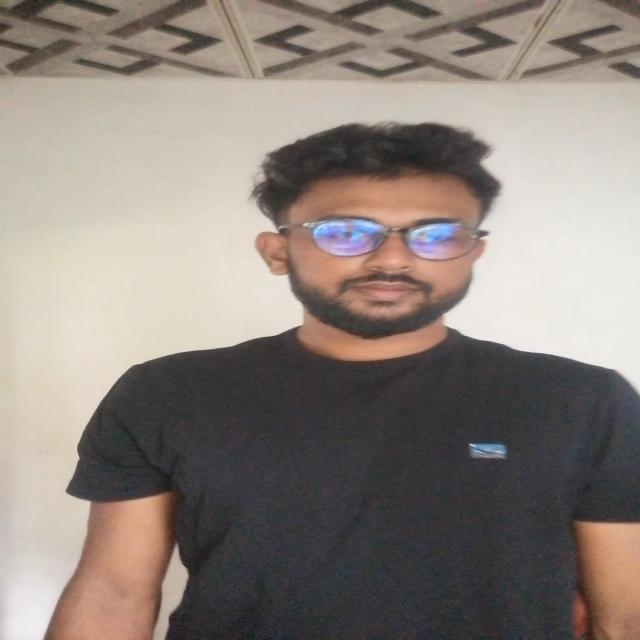Person: (66, 127, 640, 640)
